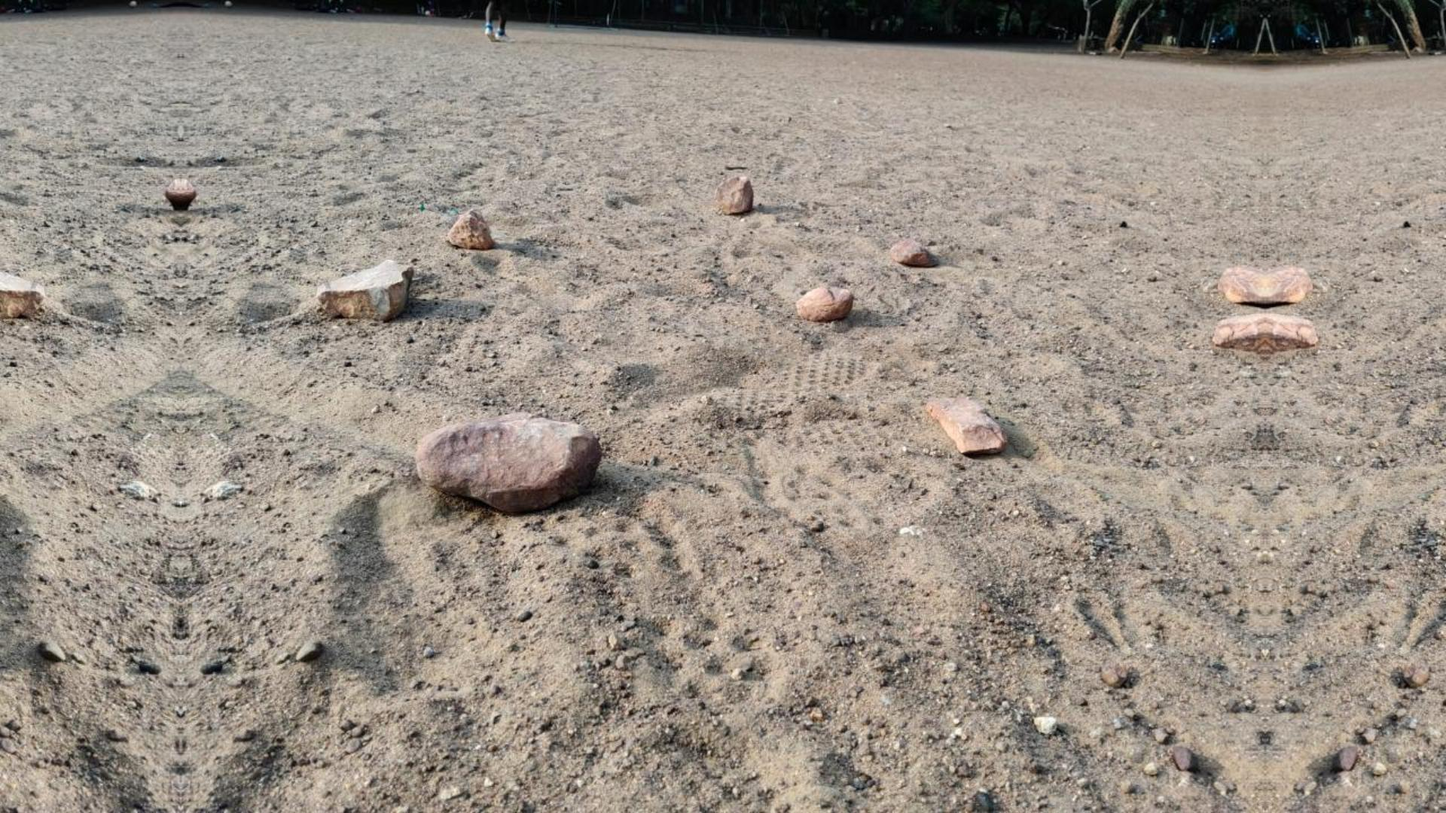rock: (416, 412, 600, 513), (317, 260, 412, 321), (924, 396, 1005, 454), (796, 286, 853, 322), (0, 271, 43, 318), (445, 210, 495, 250), (1212, 313, 1263, 350), (1266, 315, 1318, 350), (1268, 266, 1313, 303), (1217, 266, 1261, 303), (713, 175, 752, 213), (889, 239, 934, 266), (164, 178, 190, 210), (177, 178, 195, 209)
